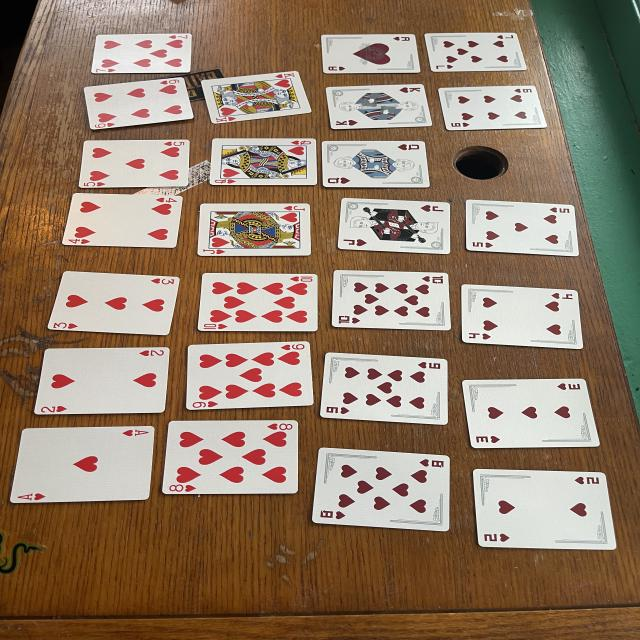10 of hearts: (332, 270, 450, 330), (198, 274, 318, 331)
2 of hearts: (473, 469, 617, 550), (35, 348, 170, 415)
3 of hearts: (462, 379, 600, 449), (47, 271, 180, 335)
4 of hearts: (462, 285, 583, 349), (62, 192, 183, 248)
5 of hearts: (467, 200, 578, 256), (78, 140, 190, 188)
6 of hearts: (85, 78, 193, 130), (438, 85, 547, 130)
7 of hearts: (425, 32, 527, 72), (92, 34, 192, 74)
8 of hearts: (312, 448, 452, 531), (162, 420, 298, 495)
9 of hearts: (320, 352, 448, 425), (187, 341, 313, 410)
Ace of hearts: (10, 426, 155, 504), (322, 34, 420, 74)
Jack of hearts: (338, 198, 450, 254), (198, 204, 310, 256)
King of hearts: (202, 71, 312, 124), (327, 84, 432, 130)
Queen of hearts: (322, 141, 430, 189), (210, 139, 317, 185)
